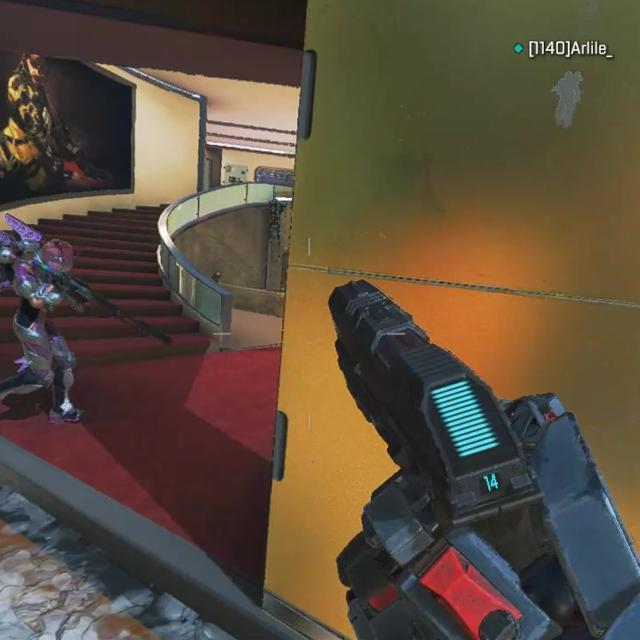avatar: (4, 237, 83, 422)
